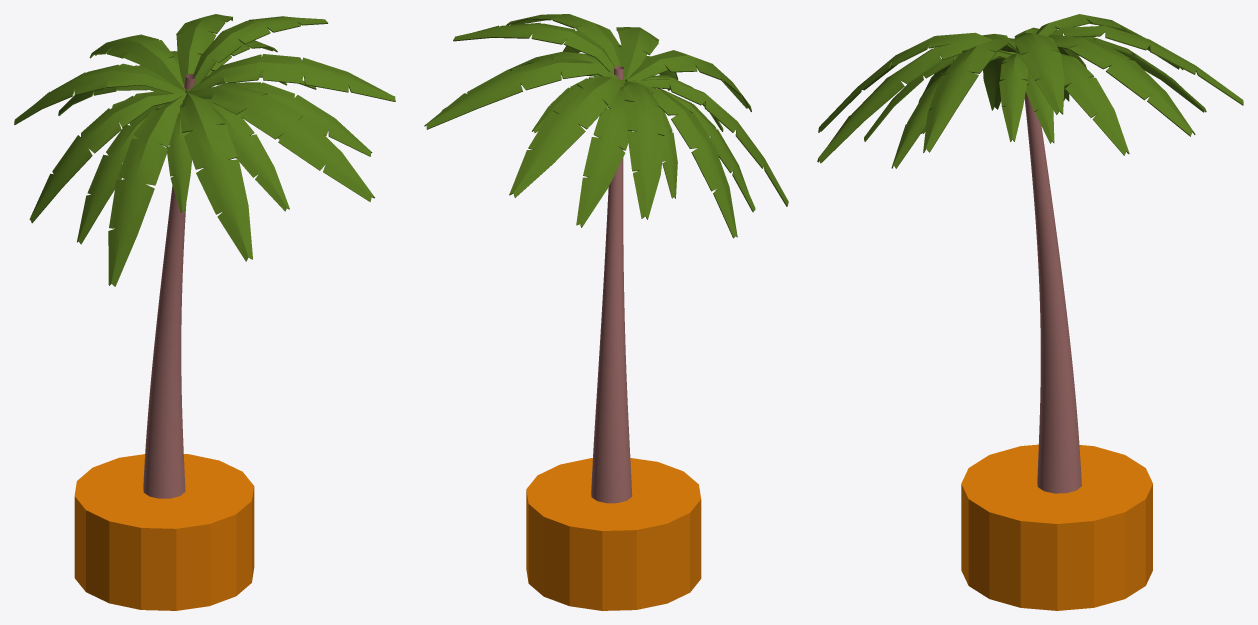
Rendered from PalmTreeWithOutCamera.fbx.
3 views of the same model, side by side, from view 1: azimuth 30°, elevation 25°; view 2: azimuth 150°, elevation 25°; view 3: azimuth 270°, elevation 25° (orthographic). The views are drawn at different scales.
Visible parts, largest first — view 1: foliage.3, Cylinder, trunk.3; view 2: foliage.3, Cylinder, trunk.3; view 3: Cylinder, foliage.3, trunk.3.
Boxes of the visible parts, box(x1,y1,x2,y2) form: foliage.3: box(14, 14, 395, 286); Cylinder: box(74, 454, 254, 610); trunk.3: box(143, 73, 195, 498); foliage.3: box(424, 14, 788, 238); Cylinder: box(526, 458, 701, 610); trunk.3: box(591, 66, 632, 503); Cylinder: box(961, 444, 1152, 610); foliage.3: box(817, 14, 1243, 168); trunk.3: box(1024, 92, 1081, 493).
Bounding box in the file's own units: 288 × 490 × 333.
